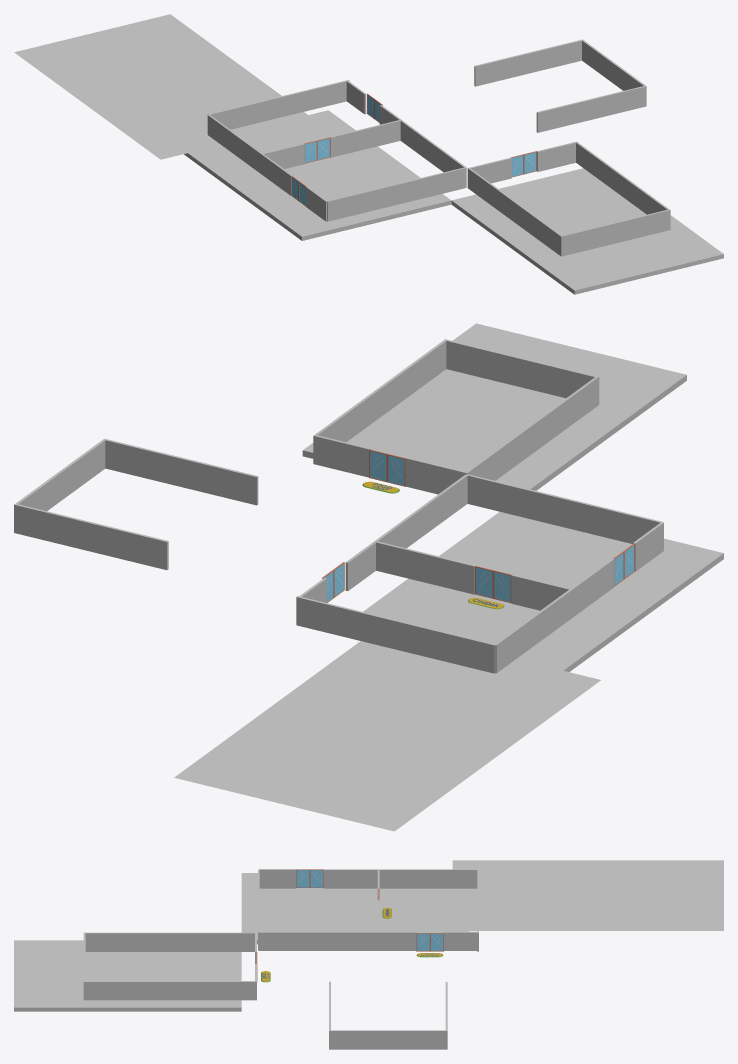
The model's file is new structure 01.fbx.
3 views of the same model, one above another, from view 1: azimuth 30°, elevation 25°; view 2: azimuth 150°, elevation 25°; view 3: azimuth 270°, elevation 25° (orthographic). The views are drawn at different scales.
Visible parts, largest first — view 1: ground (2*, Cube2, wall_025, Cube1, food_court_structure, walls_yellow_wall_005; view 2: ground (2*, wall_025, Cube2, Cube1, food_court_structure, walls_yellow_wall_005; view 3: ground (2*, Cube2, Cube1, wall_025, food_court_structure, walls_yellow_wall_005.
Boxes of the visible parts, x1,y1,x2,y2 form: ground (2*: (14,14,316,159); Cube2: (451,168,723,294); wall_025: (207,80,466,221); Cube1: (184,110,451,240); food_court_structure: (467,141,670,256); walls_yellow_wall_005: (474,39,646,132); ground (2*: (174,641,600,831); wall_025: (296,474,663,673); Cube2: (302,323,686,490); Cube1: (363,512,723,671); food_court_structure: (313,339,599,494); walls_yellow_wall_005: (14,438,258,570); ground (2*: (452,860,723,930); Cube2: (14,940,241,1011); Cube1: (241,873,469,944); wall_025: (258,869,478,951); food_court_structure: (83,932,256,1000); walls_yellow_wall_005: (329,981,447,1049).
Size of the model in its own units: 10387 by 581 by 16474.
